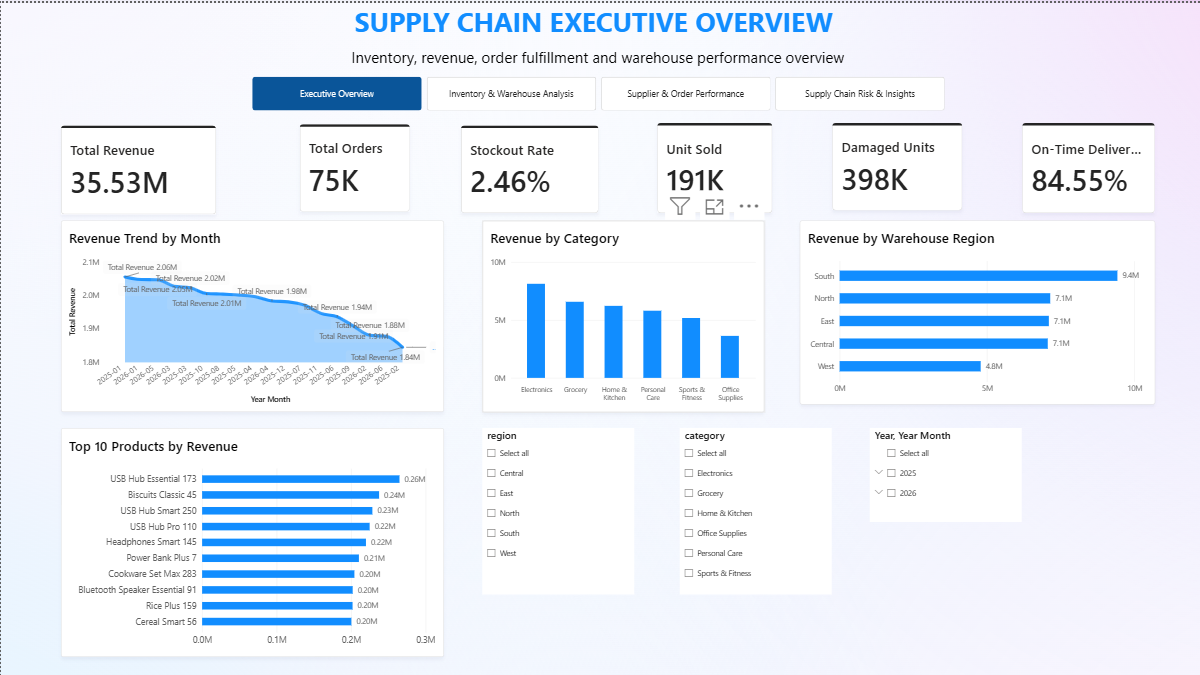

The dashboard page shown, as its layout file describes it:
{"tool":"powerbi","page":{"name":"Executive Overview","canvas":[1920,1080],"ordinal":0},"visuals":[{"type":"cardVisual","fields":{"Data":["orders.Total Revenue"]},"box":[96,196,248,142],"z":0},{"type":"cardVisual","fields":{"Data":["orders.Total Orders"]},"box":[478,194,176,140],"z":1000},{"type":"cardVisual","fields":{"Data":["orders.Unit Sold"]},"box":[1050,192,184,144],"z":2000},{"type":"cardVisual","fields":{"Data":["orders.On-Time Delivery %"]},"box":[1634,192,212,144],"z":3000},{"type":"lineChart","title":"Revenue Trend by Month","fields":{"Category":["DateTable.Year Month"],"Y":["orders.Total Revenue"]},"box":[95.8,347.9,612.5,306.2],"z":4000},{"type":"clusteredColumnChart","title":"Revenue by Category","fields":{"Category":["products.category"],"Y":["orders.Total Revenue"]},"box":[770.2,347.4,450.9,307],"z":5000},{"type":"clusteredBarChart","title":"Top 10 Products by Revenue","fields":{"Category":["products.product_name"],"Y":["orders.Total Revenue"]},"box":[95.8,679.2,612.5,366.7],"z":6000},{"type":"barChart","title":"Revenue by Warehouse Region","fields":{"Category":["warehouses.region"],"Y":["orders.Total Revenue"]},"box":[1277.2,347.4,568.4,294.7],"z":7000},{"type":"slicer","fields":{"Values":["products.category"]},"box":[1085.4,679.2,243,266],"z":8000},{"type":"slicer","fields":{"Values":["warehouses.region"]},"box":[770.8,679.2,243,266],"z":9000},{"type":"textbox","box":[0,0,1896,70],"z":10000},{"type":"slicer","fields":{"Values":["DateTable.Year","DateTable.Year Month"]},"box":[1389.6,679.2,243,150],"z":11000},{"type":"cardVisual","fields":{"Data":["inventory.Stockout Rate"]},"box":[736,196,220,140],"z":12000},{"type":"cardVisual","fields":{"Data":["inventory.Damaged Units"]},"box":[1330,192,208,140],"z":13000},{"type":"textbox","box":[1159,709,150,309],"z":14000},{"type":"textbox","box":[498,70,914,48],"z":15000},{"type":"pageNavigator","box":[402,118,1110,54],"z":15001}]}

Visuals, with their boxes in screenshot pixels (x1, y1, x2, y2), scaled from the page's 1920x1080 canvas onto the 1200x675 screenshot:
cardVisual - orders.Total Revenue: [left=60, top=122, right=215, bottom=211]
cardVisual - orders.Total Orders: [left=299, top=121, right=409, bottom=209]
cardVisual - orders.Unit Sold: [left=656, top=120, right=771, bottom=210]
cardVisual - orders.On-Time Delivery %: [left=1021, top=120, right=1154, bottom=210]
"Revenue Trend by Month" lineChart: [left=60, top=217, right=443, bottom=409]
"Revenue by Category" clusteredColumnChart: [left=481, top=217, right=763, bottom=409]
"Top 10 Products by Revenue" clusteredBarChart: [left=60, top=424, right=443, bottom=654]
"Revenue by Warehouse Region" barChart: [left=798, top=217, right=1154, bottom=401]
slicer - products.category: [left=678, top=424, right=830, bottom=591]
slicer - warehouses.region: [left=482, top=424, right=634, bottom=591]
textbox: [left=0, top=0, right=1185, bottom=44]
slicer - DateTable.Year x DateTable.Year Month: [left=868, top=424, right=1020, bottom=518]
cardVisual - inventory.Stockout Rate: [left=460, top=122, right=598, bottom=210]
cardVisual - inventory.Damaged Units: [left=831, top=120, right=961, bottom=208]
textbox: [left=724, top=443, right=818, bottom=636]
textbox: [left=311, top=44, right=882, bottom=74]
pageNavigator: [left=251, top=74, right=945, bottom=108]
